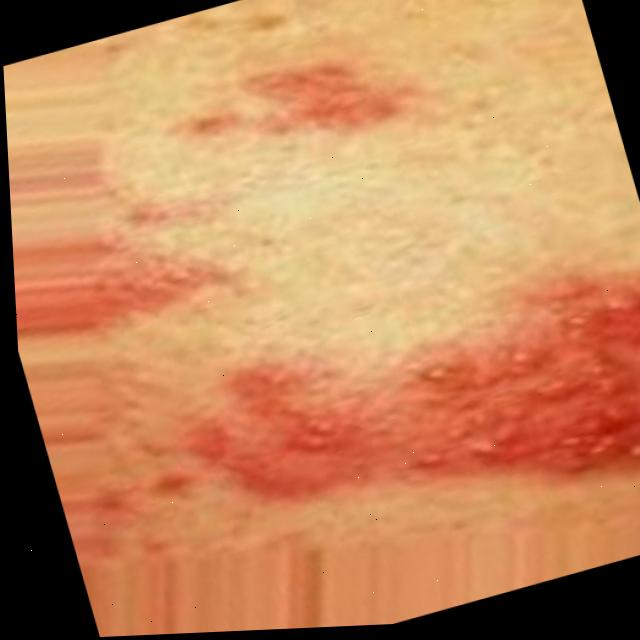Shingles: (154, 217, 640, 594), (172, 22, 424, 188), (85, 177, 240, 336)
